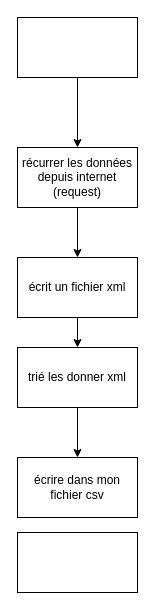
This 155x610 diagram has some shape labels left out. The box of each missing label's shape, as (x1, y1, x2, y2) in pixels:
fin: (16, 532, 138, 592)
start: (16, 16, 138, 78)
